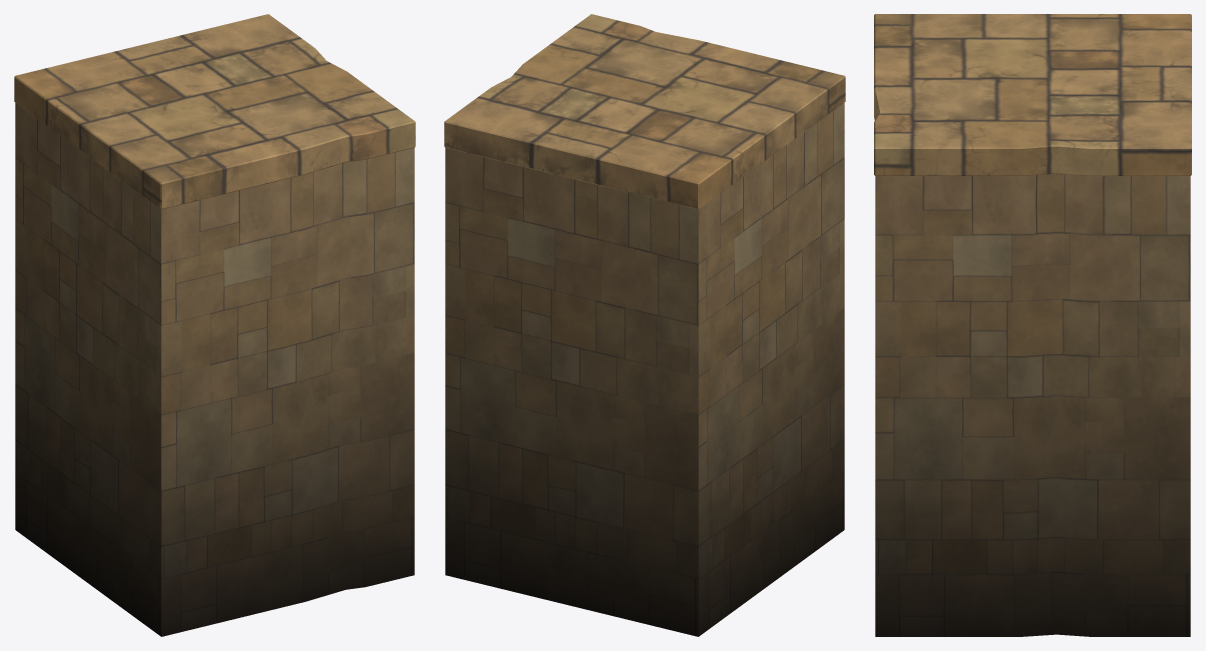
Rendered from AN_PLF.fbx.
3 views of the same model, side by side, from view 1: azimuth 30°, elevation 25°; view 2: azimuth 150°, elevation 25°; view 3: azimuth 270°, elevation 25° (orthographic). The views are drawn at different scales.
Visible parts, largest first — view 1: AN_PLF; view 2: AN_PLF; view 3: AN_PLF.
Boxes of the visible parts, <box> form: AN_PLF: <box>14,14,415,636</box>; AN_PLF: <box>444,14,845,636</box>; AN_PLF: <box>874,14,1191,636</box>.
Bounding box in the file's own units: 5 × 8.5 × 5.
2 materials, 2 textured.
